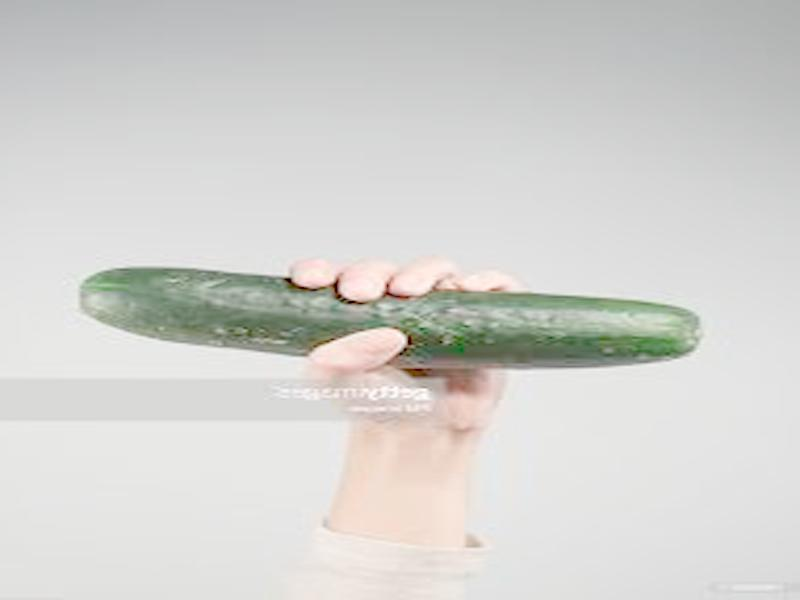Cucumber: (79, 266, 690, 368)
